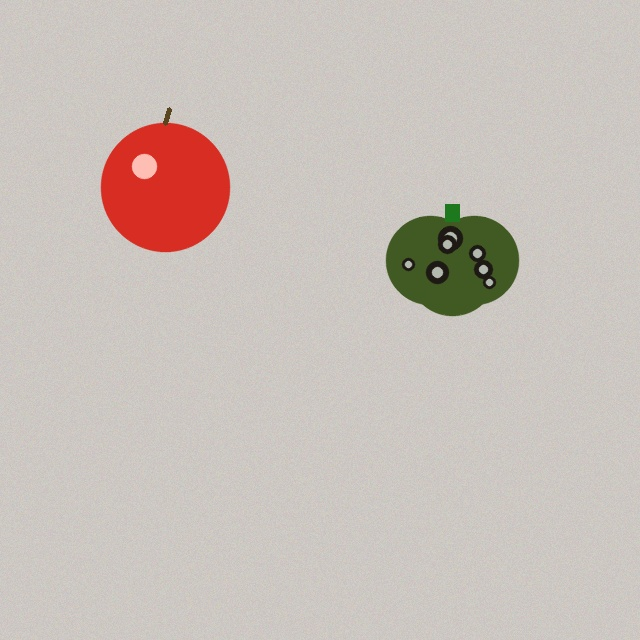Fresh apple: (101, 109, 229, 251)
Rotten bell pepper: (386, 204, 518, 315)
